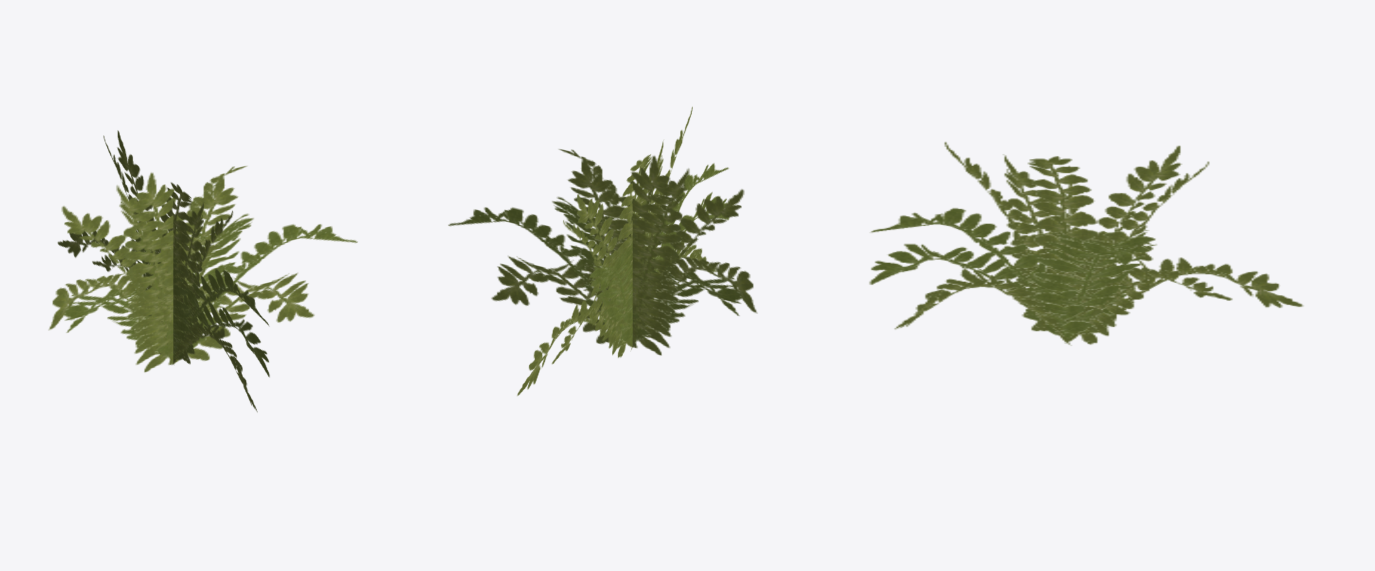
Rendered from PhlebodiumAureum.glb.
The picture shows the model from 3 angles, left to right: view 1: azimuth 30°, elevation 25°; view 2: azimuth 150°, elevation 25°; view 3: azimuth 270°, elevation 25°; orthographic projection. The views are drawn at different scales.
Parts seen in each view (by area): view 1: mesh__mat_billboard_3; view 2: mesh__mat_billboard_3; view 3: mesh__mat_billboard_3.
Boxes of the visible parts, x1,y1,x2,y2 form: mesh__mat_billboard_3: [48, 130, 357, 411]; mesh__mat_billboard_3: [448, 107, 757, 395]; mesh__mat_billboard_3: [869, 142, 1303, 345].
Bounding box in the file's own units: 1.88 × 1.68 × 2.3.
Materials: 1 (1 with a texture image).
